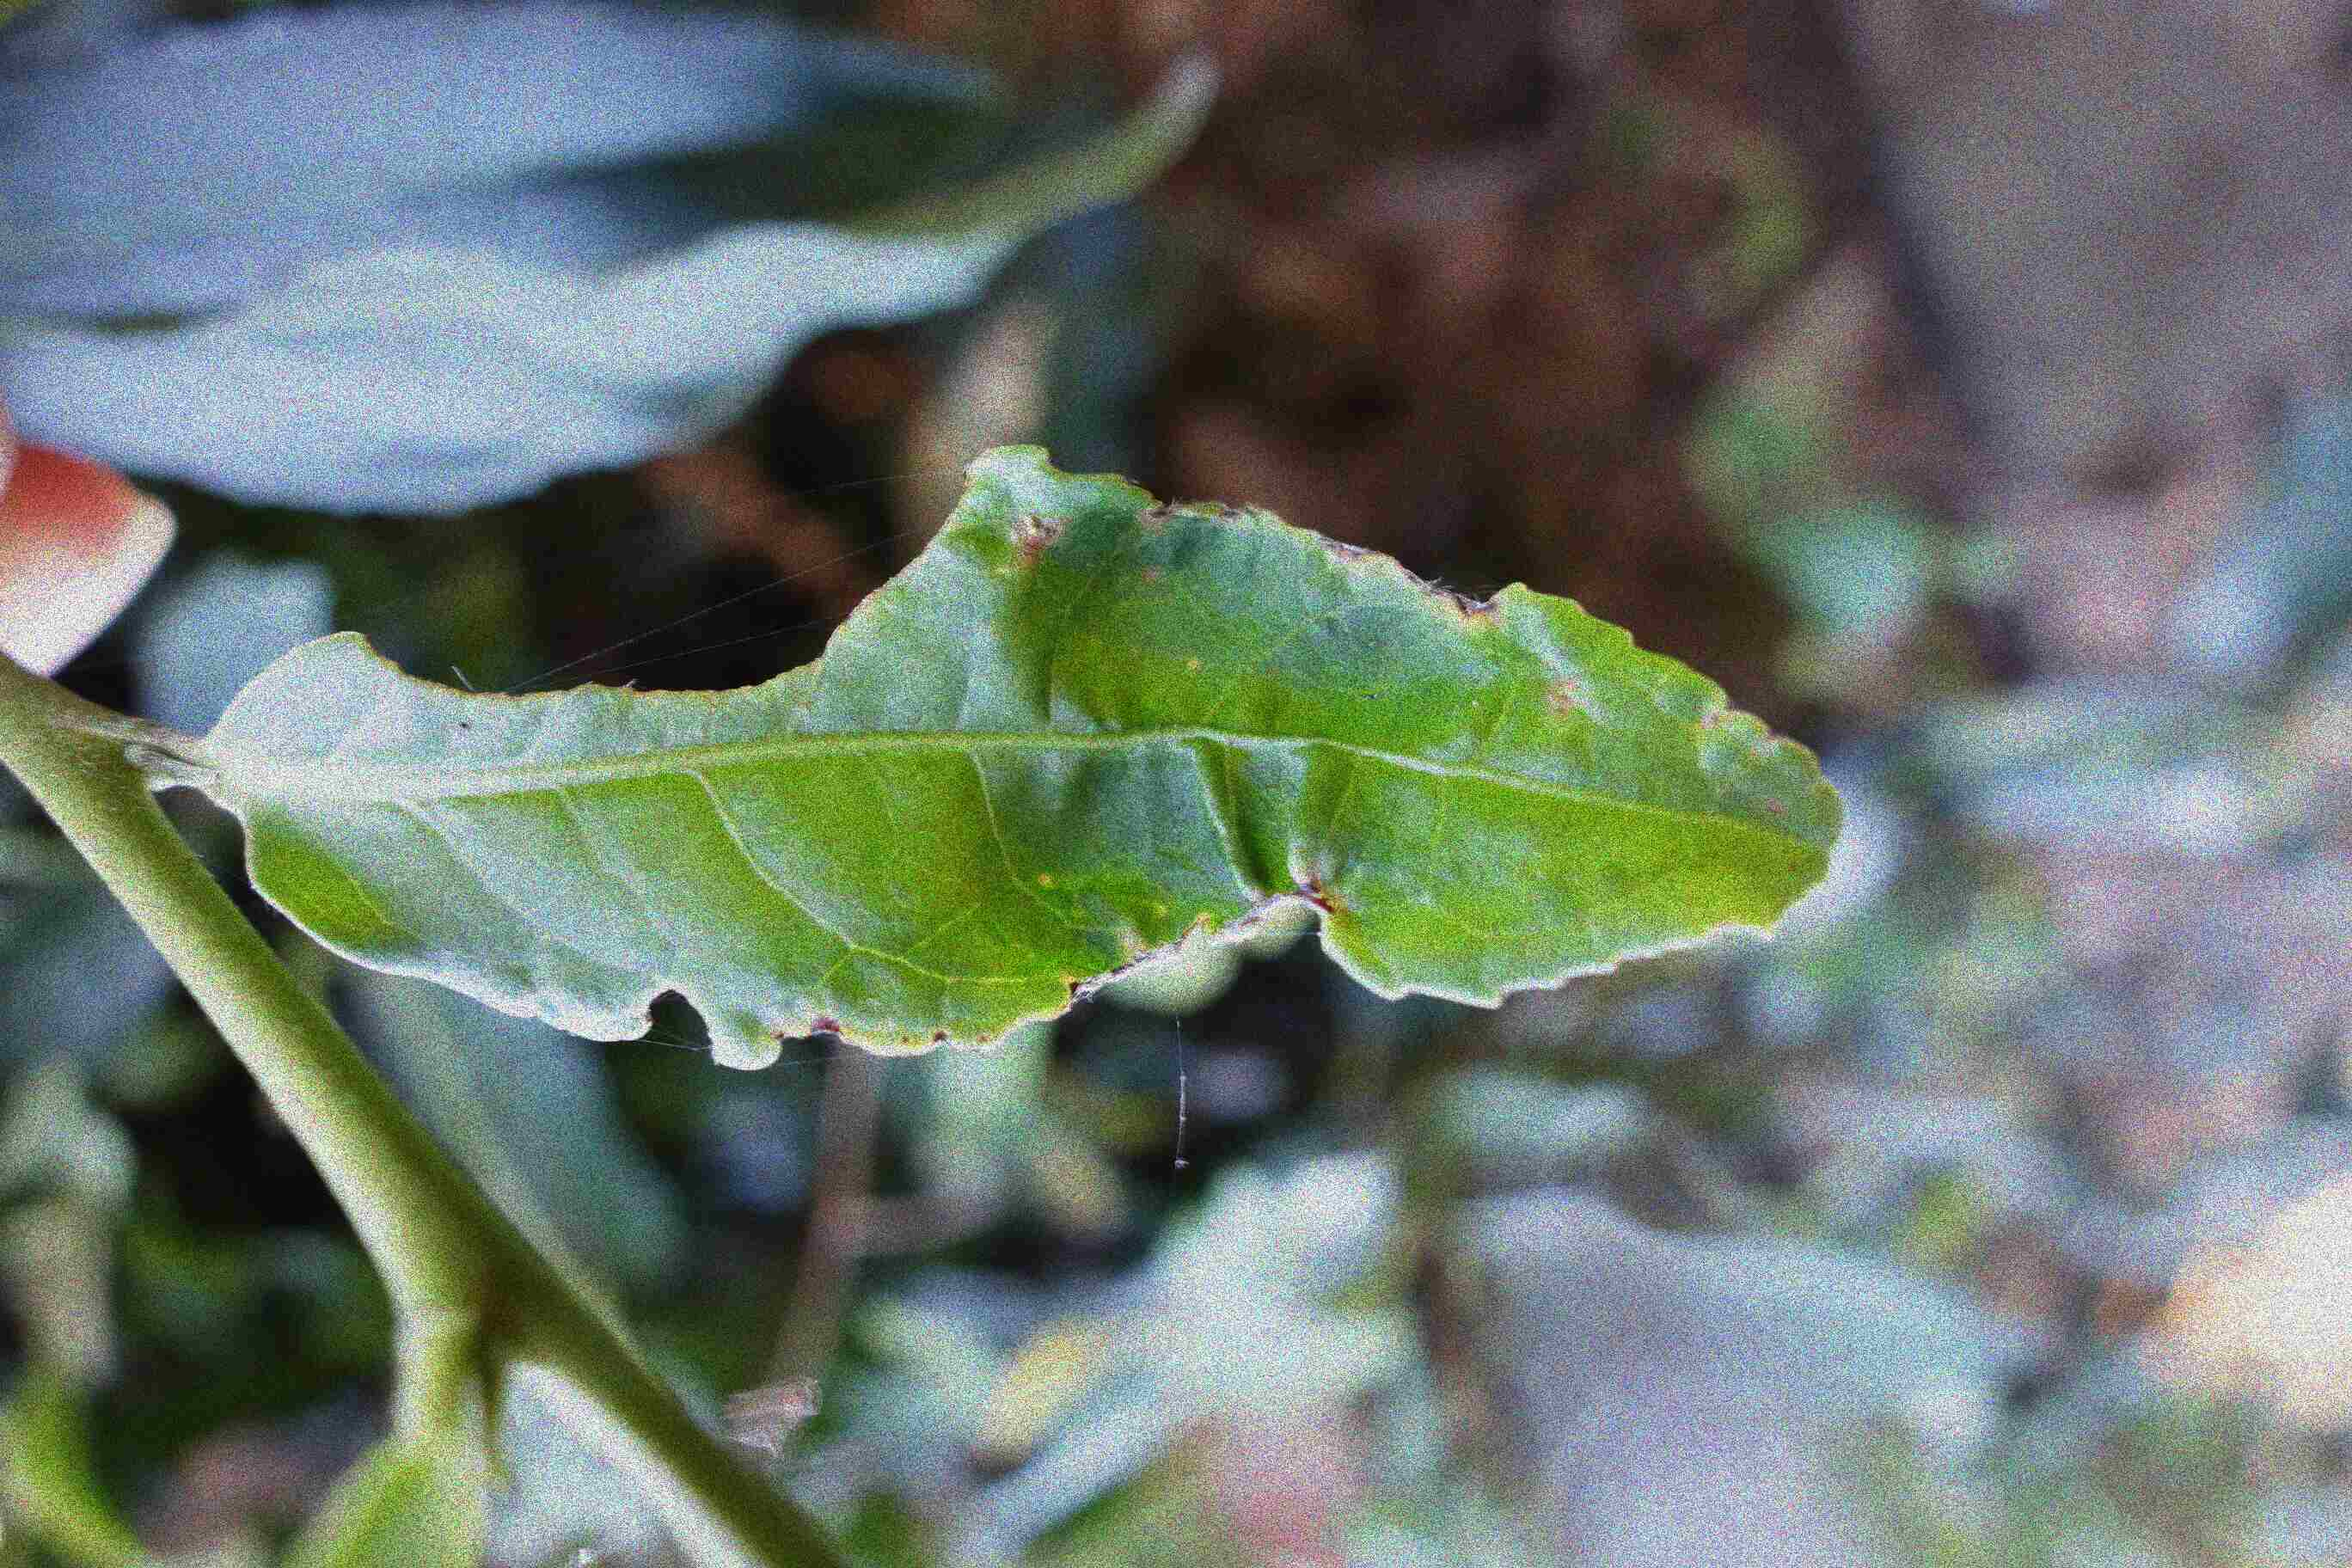chihuo_high: (212, 436, 1850, 1076)
